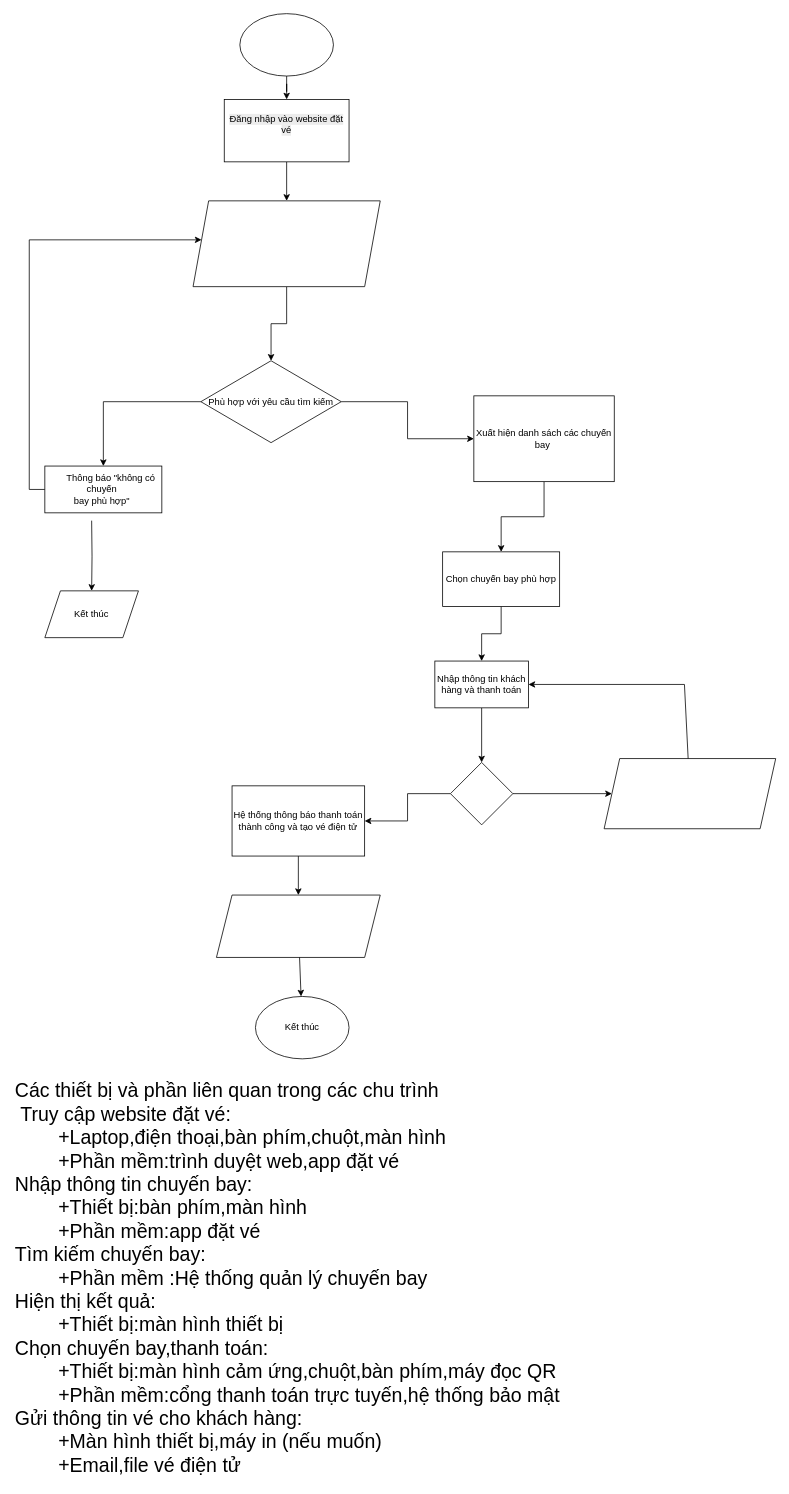
This 789x1494 diagram has some shape labels left out. The centre of each missing label's shape, as x and y in pixels:
Bắt đầu: the point at 286,44
Hệ thống gửi vé qua email cho khách: the point at 298,925
Không thành công và yêu cầu thanh toán lại: the point at 689,793
Nhập thông tin cá nhân,điểm đi,điểm đến,thời gian,số lượng vé: the point at 286,243
Thanh toán: the point at 481,793
